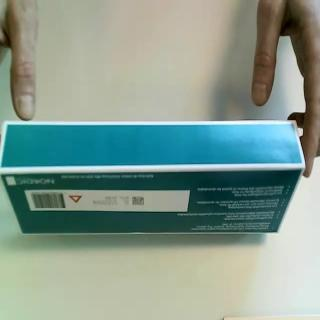metadon_hydrochlorid40mg: (1, 118, 308, 240)
